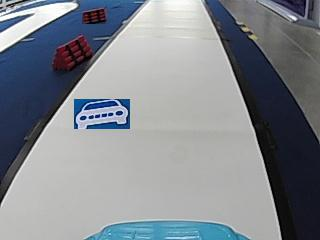bomb: (53, 32, 91, 70)
